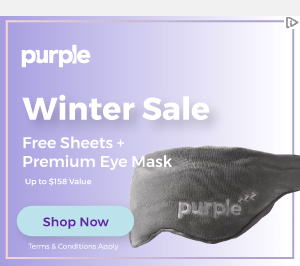fake_button: (13, 204, 138, 242)
